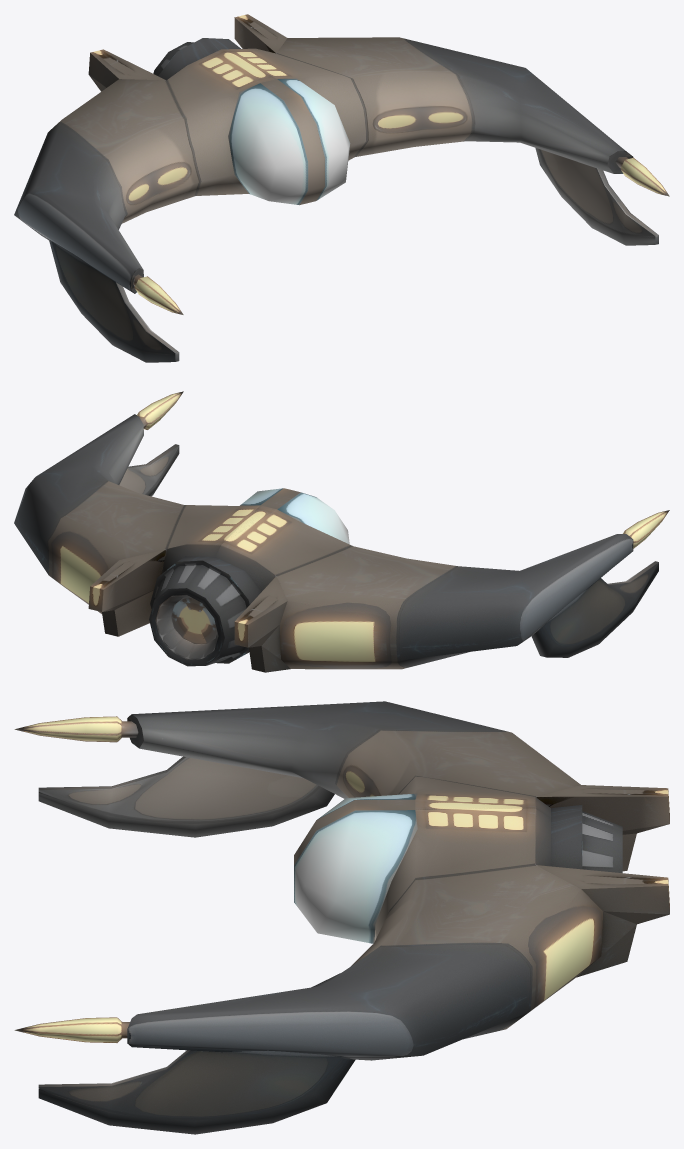
Rendered from vehicle_spacecraft_ship_wrath_001_gr_mesh.FBX.
3 renders of one model, top to bottom at view 1: azimuth 30°, elevation 25°; view 2: azimuth 150°, elevation 25°; view 3: azimuth 270°, elevation 25°, orthographic. The views are drawn at different scales.
Parts seen in each view (by area): view 1: vehicle_spacecraft_ship_wrath_001_gr; view 2: vehicle_spacecraft_ship_wrath_001_gr; view 3: vehicle_spacecraft_ship_wrath_001_gr.
Part boxes in pixels (x1,y1,x2,y2): vehicle_spacecraft_ship_wrath_001_gr: [14, 14, 669, 362]; vehicle_spacecraft_ship_wrath_001_gr: [14, 391, 669, 672]; vehicle_spacecraft_ship_wrath_001_gr: [14, 701, 669, 1134].
Size of the model in its own units: 5.15 by 1.38 by 4.58.
